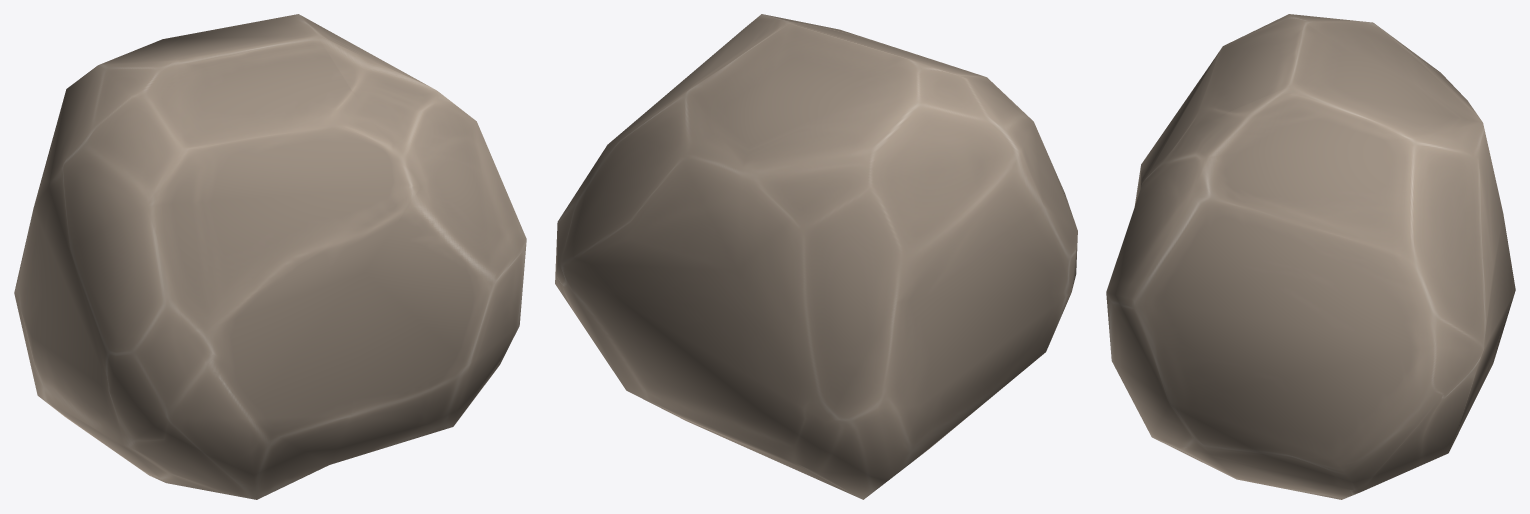
The model's file is Stone_1_Variation_2.fbx.
3 views of the same model, side by side, from view 1: azimuth 30°, elevation 25°; view 2: azimuth 150°, elevation 25°; view 3: azimuth 270°, elevation 25° (orthographic). The views are drawn at different scales.
Visible parts, largest first — view 1: Stone_1_Variation_2; view 2: Stone_1_Variation_2; view 3: Stone_1_Variation_2.
Boxes of the visible parts, bbox=[...] form: Stone_1_Variation_2: bbox=[14, 14, 526, 499]; Stone_1_Variation_2: bbox=[555, 14, 1077, 499]; Stone_1_Variation_2: bbox=[1106, 14, 1515, 499].
Bounding box in the file's own units: 107 × 94.47 × 92.35.
